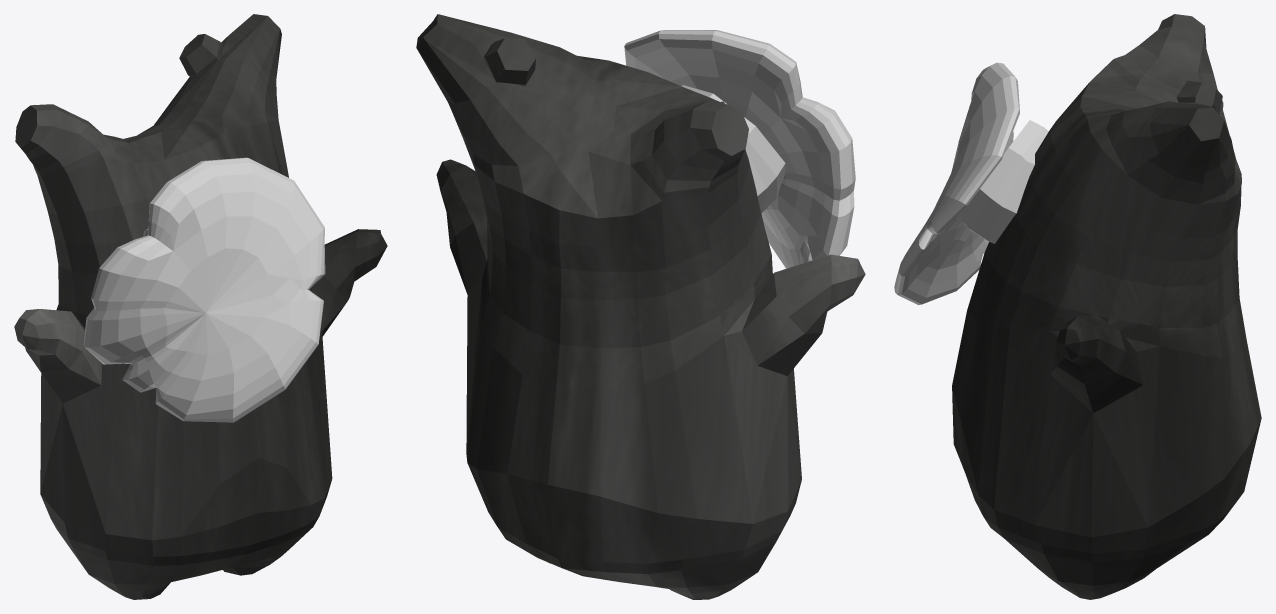
Rendered from frame_0012.obj.
3 views of the same model, side by side, from view 1: azimuth 30°, elevation 25°; view 2: azimuth 150°, elevation 25°; view 3: azimuth 270°, elevation 25° (orthographic). The views are drawn at different scales.
Parts seen in each view (by area): view 1: korok, leaf; view 2: korok, leaf, nose; view 3: korok, leaf, nose.
Part boxes in pixels (x1,y1,x2,y2): korok: (14,14,387,599); leaf: (83,157,325,422); korok: (416,14,865,599); leaf: (624,30,855,268); nose: (681,85,785,213); korok: (952,14,1261,599); leaf: (894,62,1019,304); nose: (960,120,1048,243).
Size of the model in its own units: 1.66 by 2.18 by 1.38.
